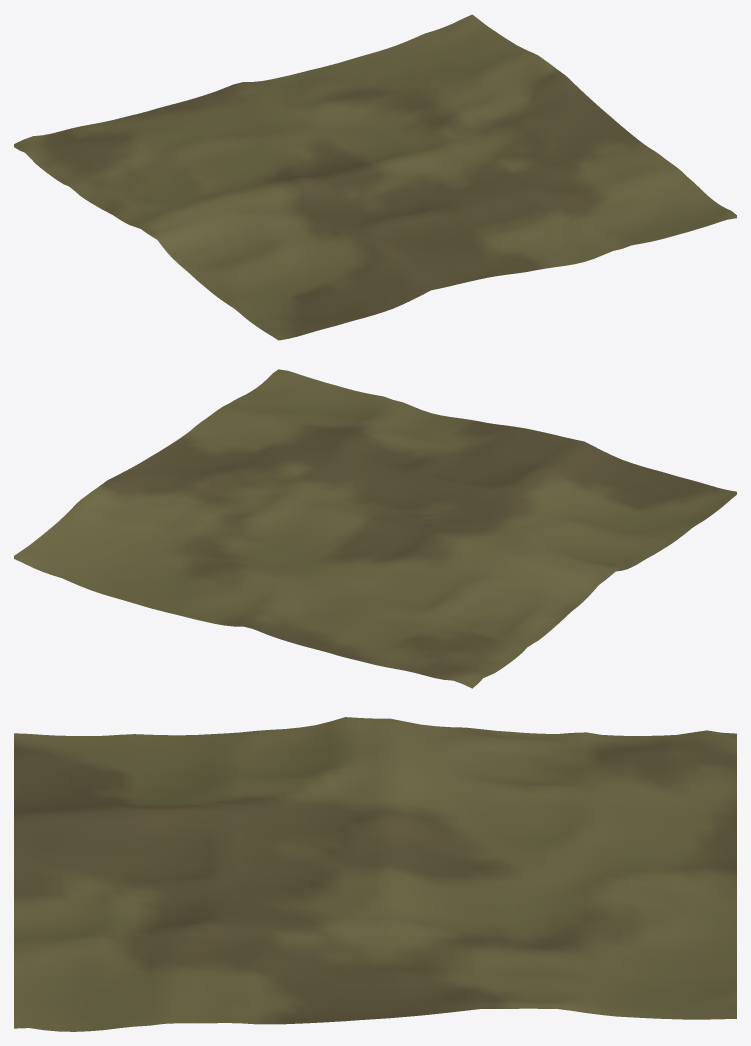
The model's file is land_m_13_03.glb.
3 views of the same model, one above another, from view 1: azimuth 30°, elevation 25°; view 2: azimuth 150°, elevation 25°; view 3: azimuth 270°, elevation 25° (orthographic). The views are drawn at different scales.
Parts seen in each view (by area): view 1: land_m_13_03; view 2: land_m_13_03; view 3: land_m_13_03.
Part boxes in pixels (box(x1,y1,x2,y2)): land_m_13_03: box(14, 14, 736, 340); land_m_13_03: box(14, 369, 736, 688); land_m_13_03: box(14, 717, 736, 1031).
Size of the model in its own units: 960 by 60.38 by 960.
